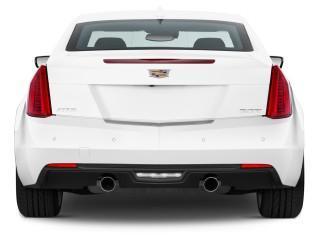cadillac: (145, 66, 172, 79)
